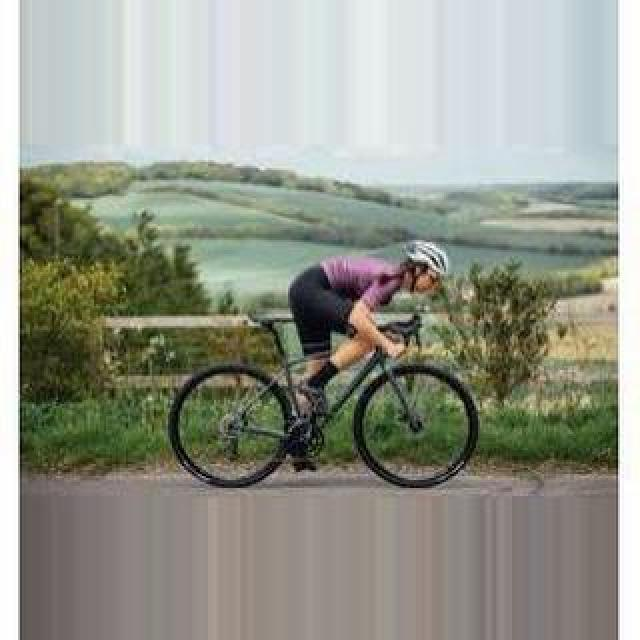MC-Bike: (286, 240, 450, 460)
Person: (170, 300, 478, 490)
